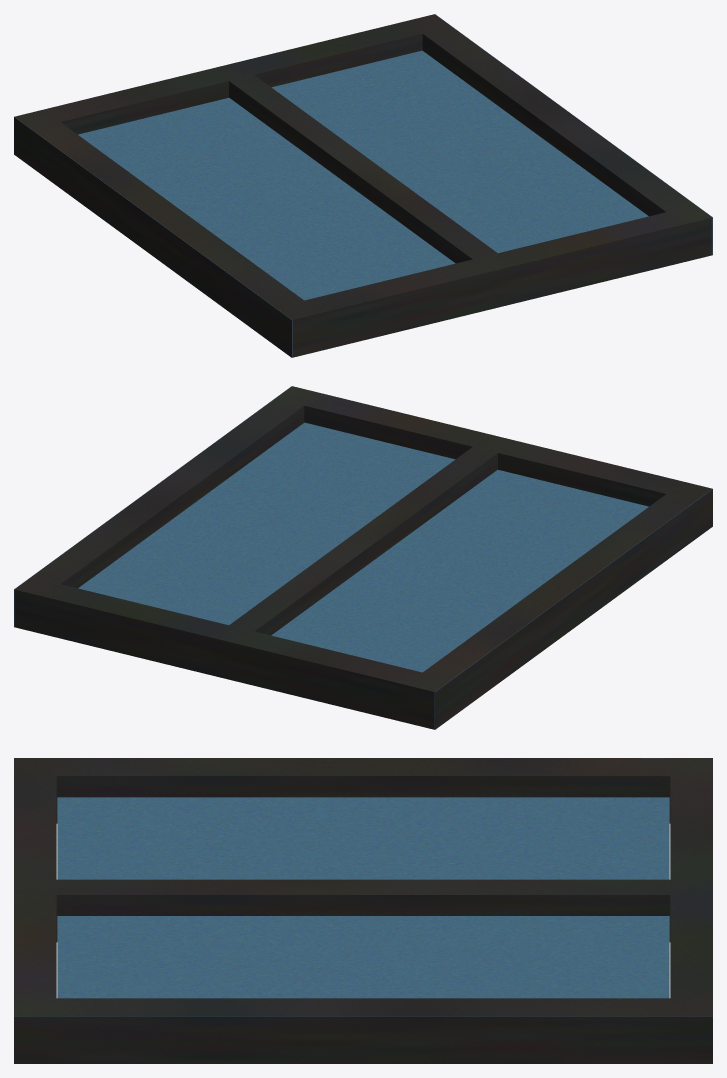
Rendered from window.obj.
The picture shows the model from 3 angles, top to bottom: view 1: azimuth 30°, elevation 25°; view 2: azimuth 150°, elevation 25°; view 3: azimuth 270°, elevation 25°; orthographic projection. The views are drawn at different scales.
Bounding box in the file's own units: 1.4 × 0.12 × 1.6.
